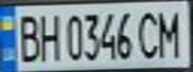0: (63, 9, 84, 61)
3: (81, 9, 100, 61)
4: (100, 8, 121, 61)
6: (115, 8, 139, 60)
B: (12, 10, 42, 63)
C: (136, 7, 163, 60)
H: (36, 9, 63, 62)
M: (154, 6, 187, 58)
